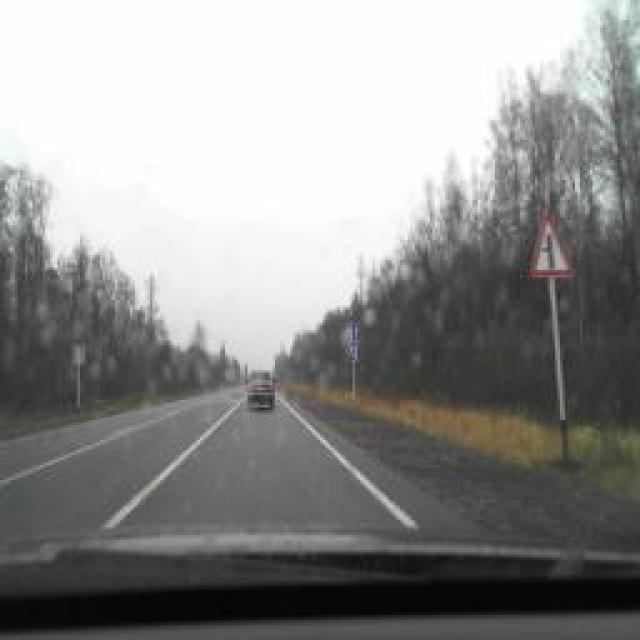sign: (530, 208, 575, 278)
